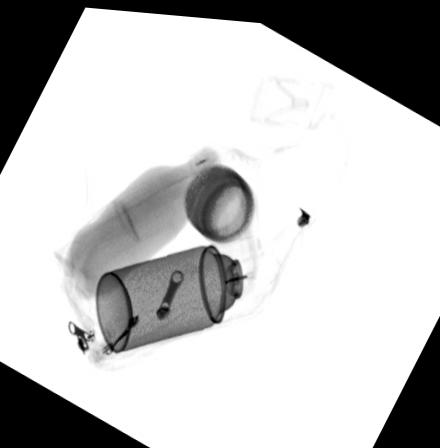Sprayer: (94, 228, 272, 352)
